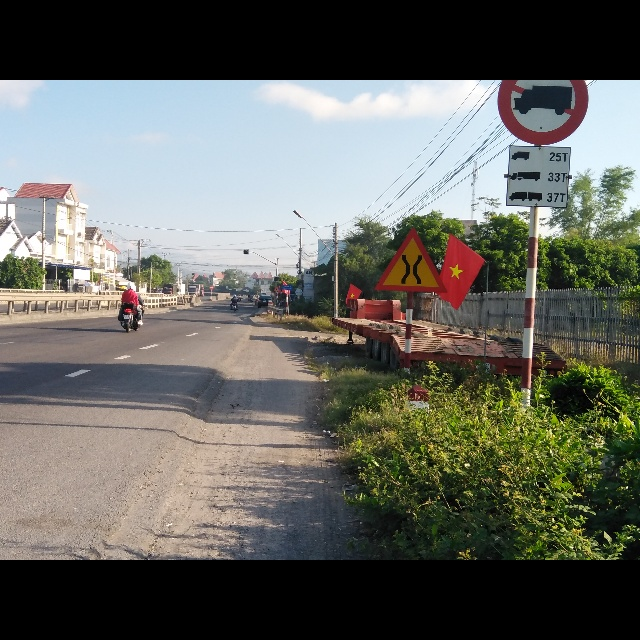Cầu hẹp: (374, 226, 446, 293)
